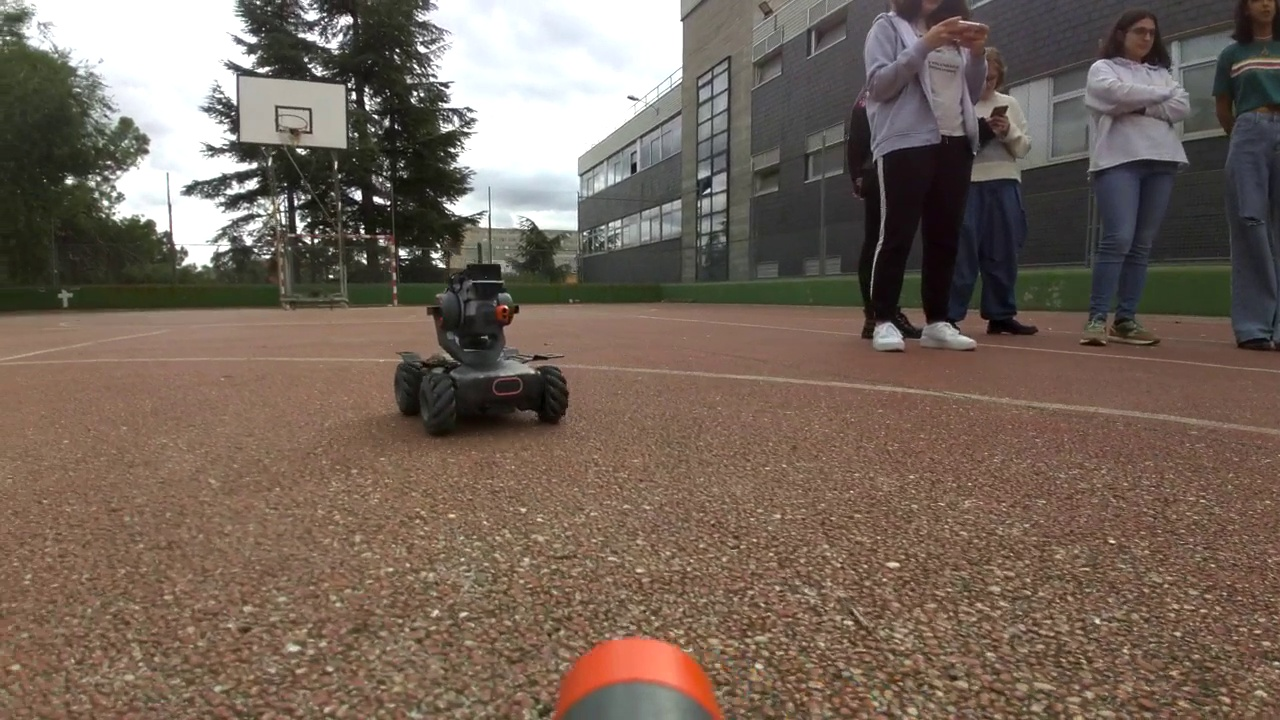robot: (396, 266, 570, 440)
